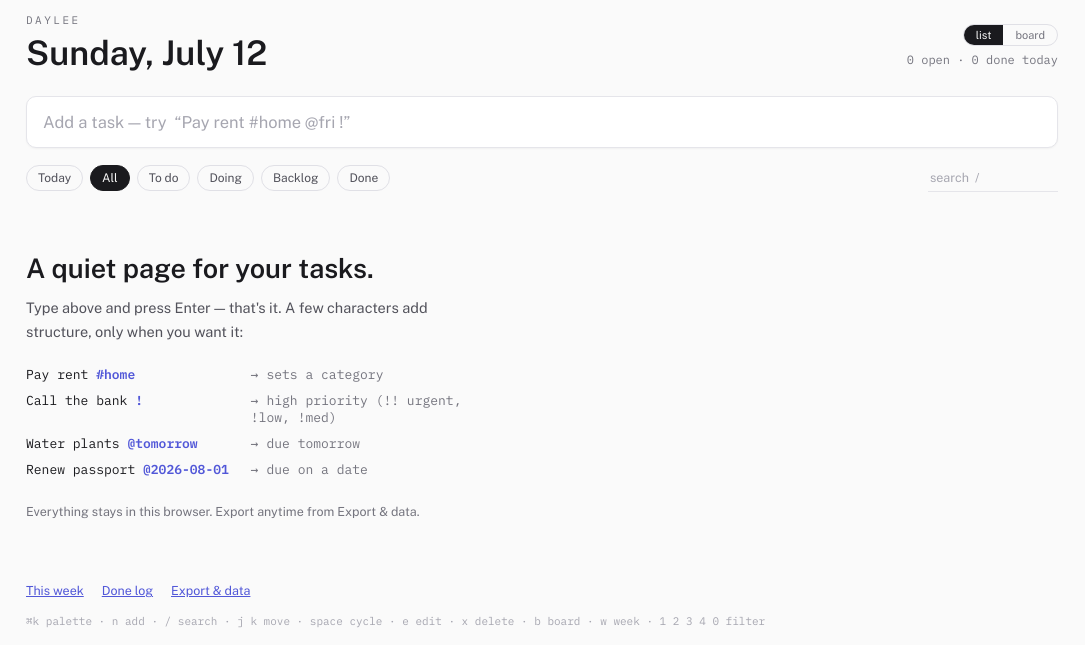
Test: edit › Escape cancels an edit without saving
Click the field labelled "Add a task": point(542, 122) left=26, top=96, right=1058, bottom=148
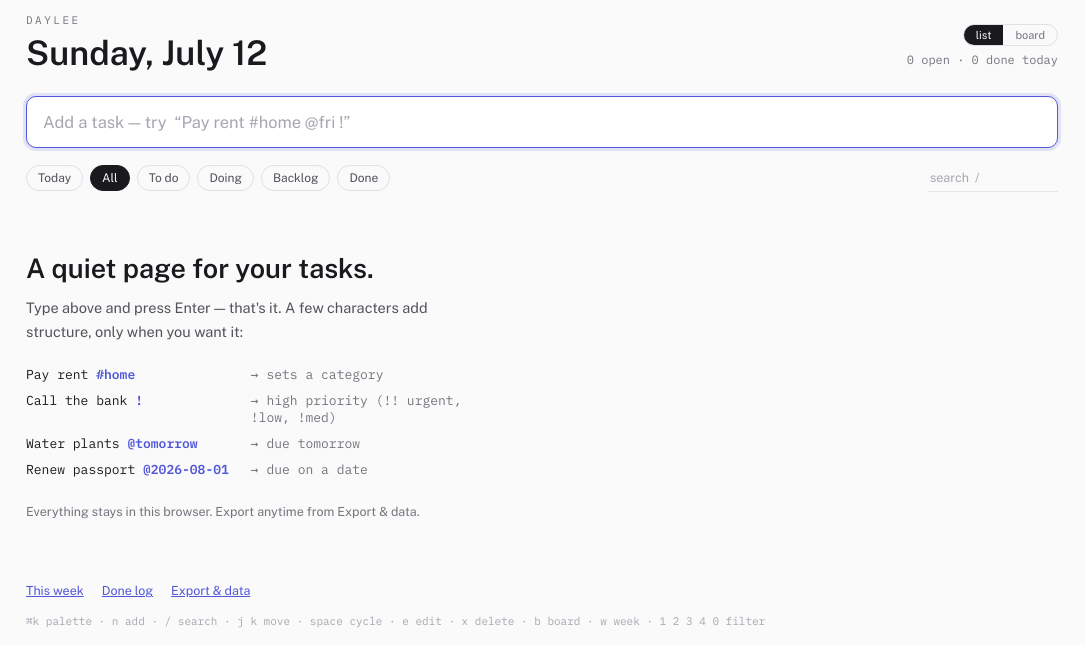
Type keys "Original{Enter}"
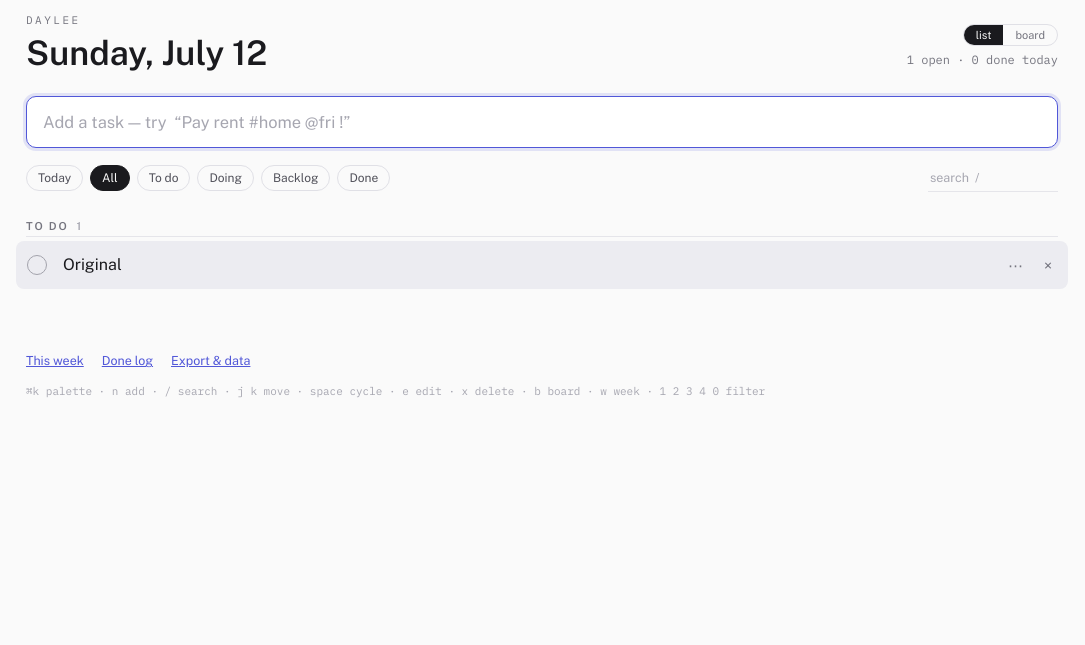
Click the text "Original": point(92, 265) left=63, top=255, right=122, bottom=274
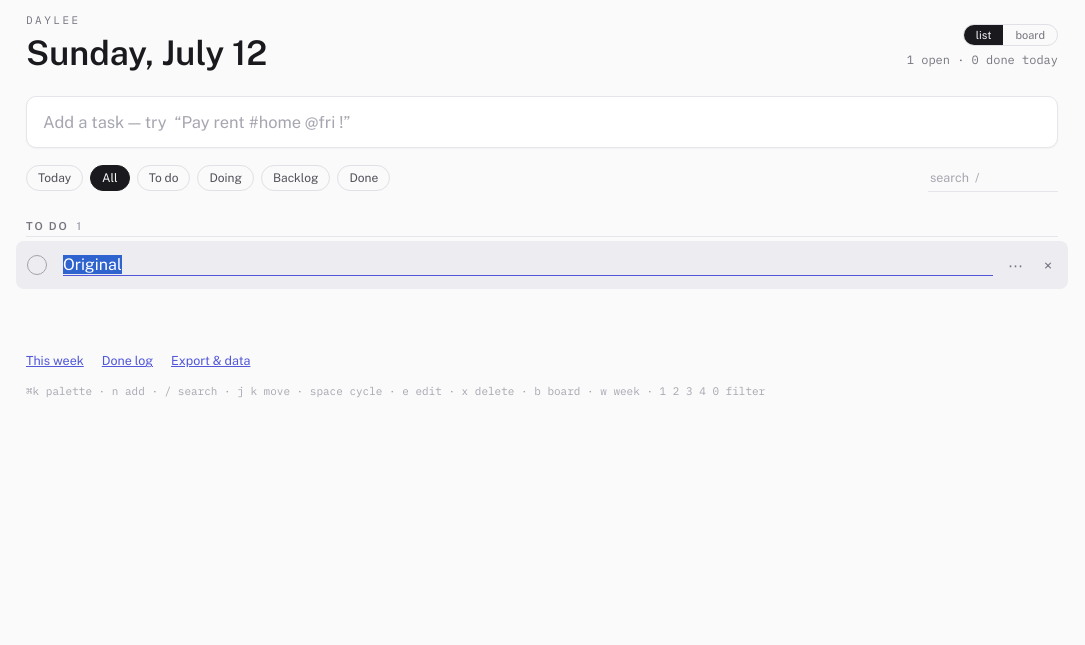
In the field named "Edit task title": point(528, 265) left=63, top=254, right=993, bottom=276, type " changed"
Then press Escape
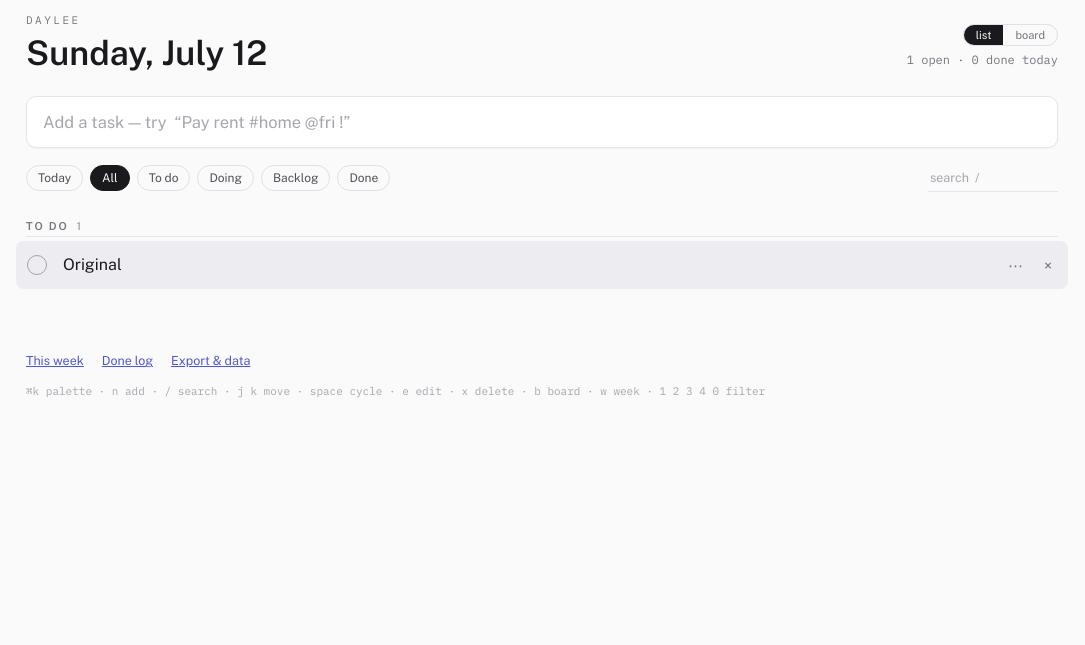
expect the text "Original" is shown: met, box left=63, top=255, right=122, bottom=274
